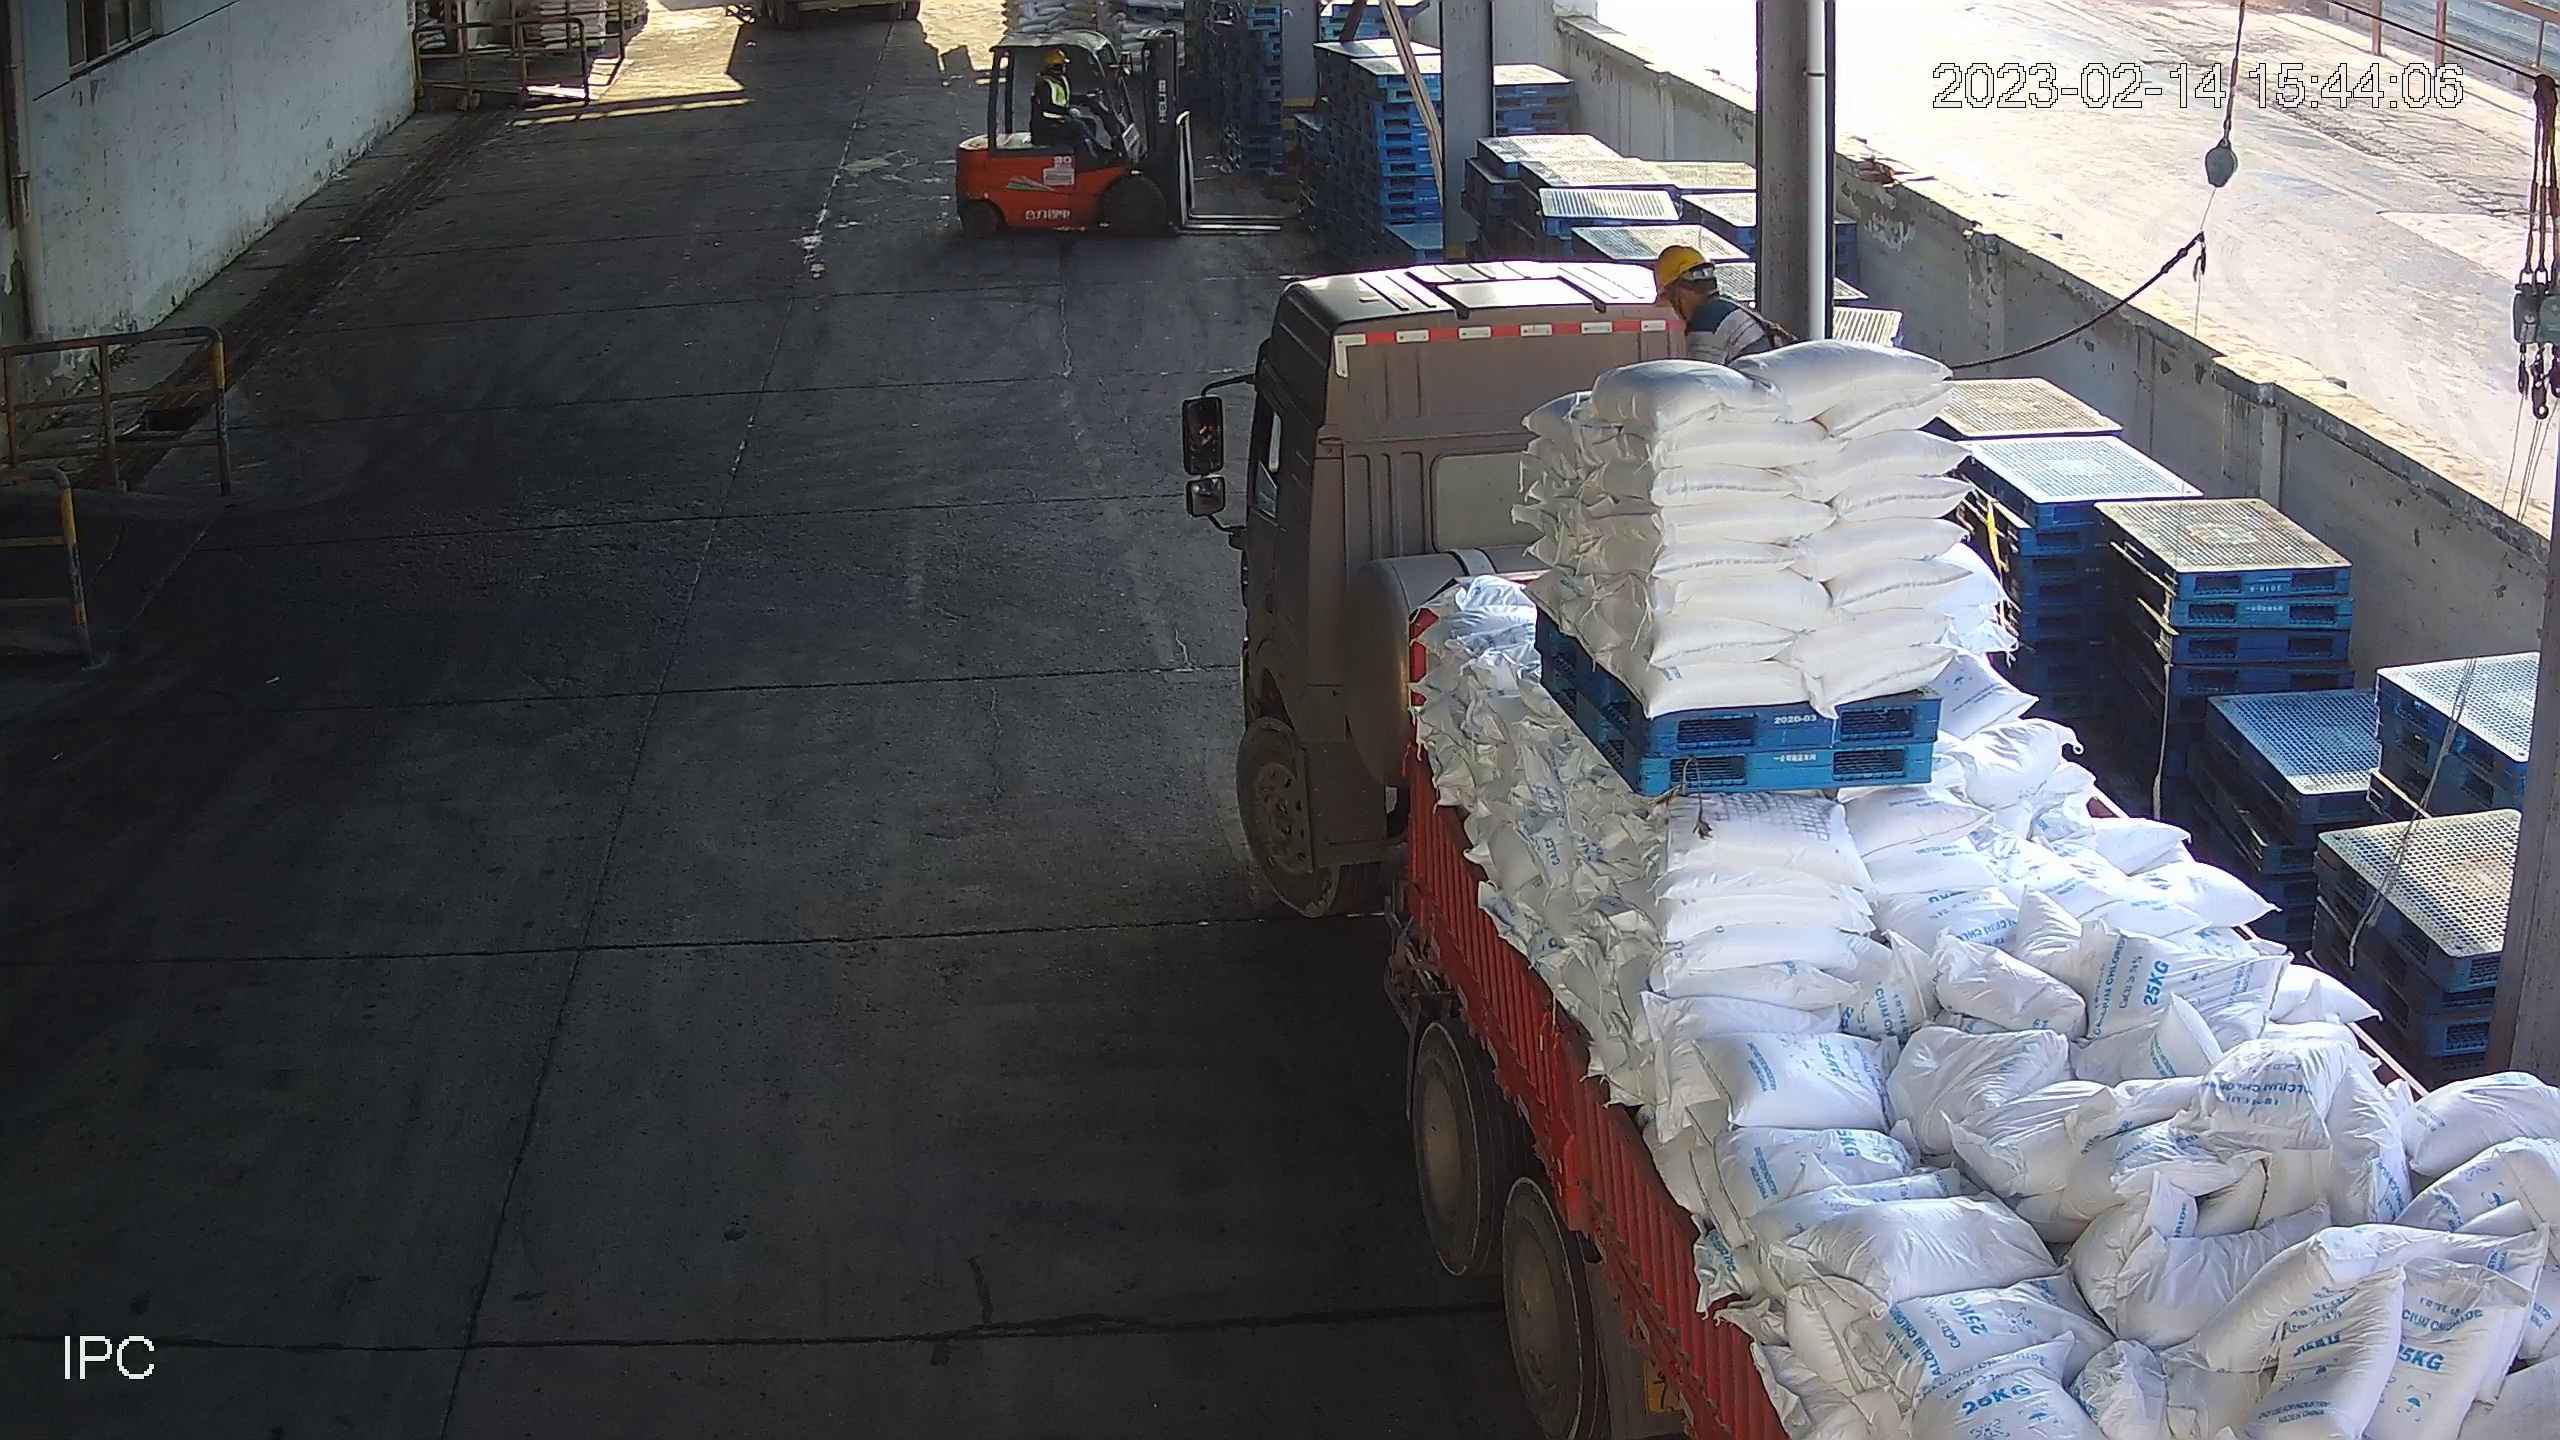belt: (1723, 290, 1790, 351)
head: (1646, 246, 1769, 351), (1041, 48, 1078, 91)
helmet: (1649, 244, 1711, 299), (1041, 49, 1071, 67)
people: (1029, 48, 1123, 162)
truck: (1181, 243, 2560, 1440)
